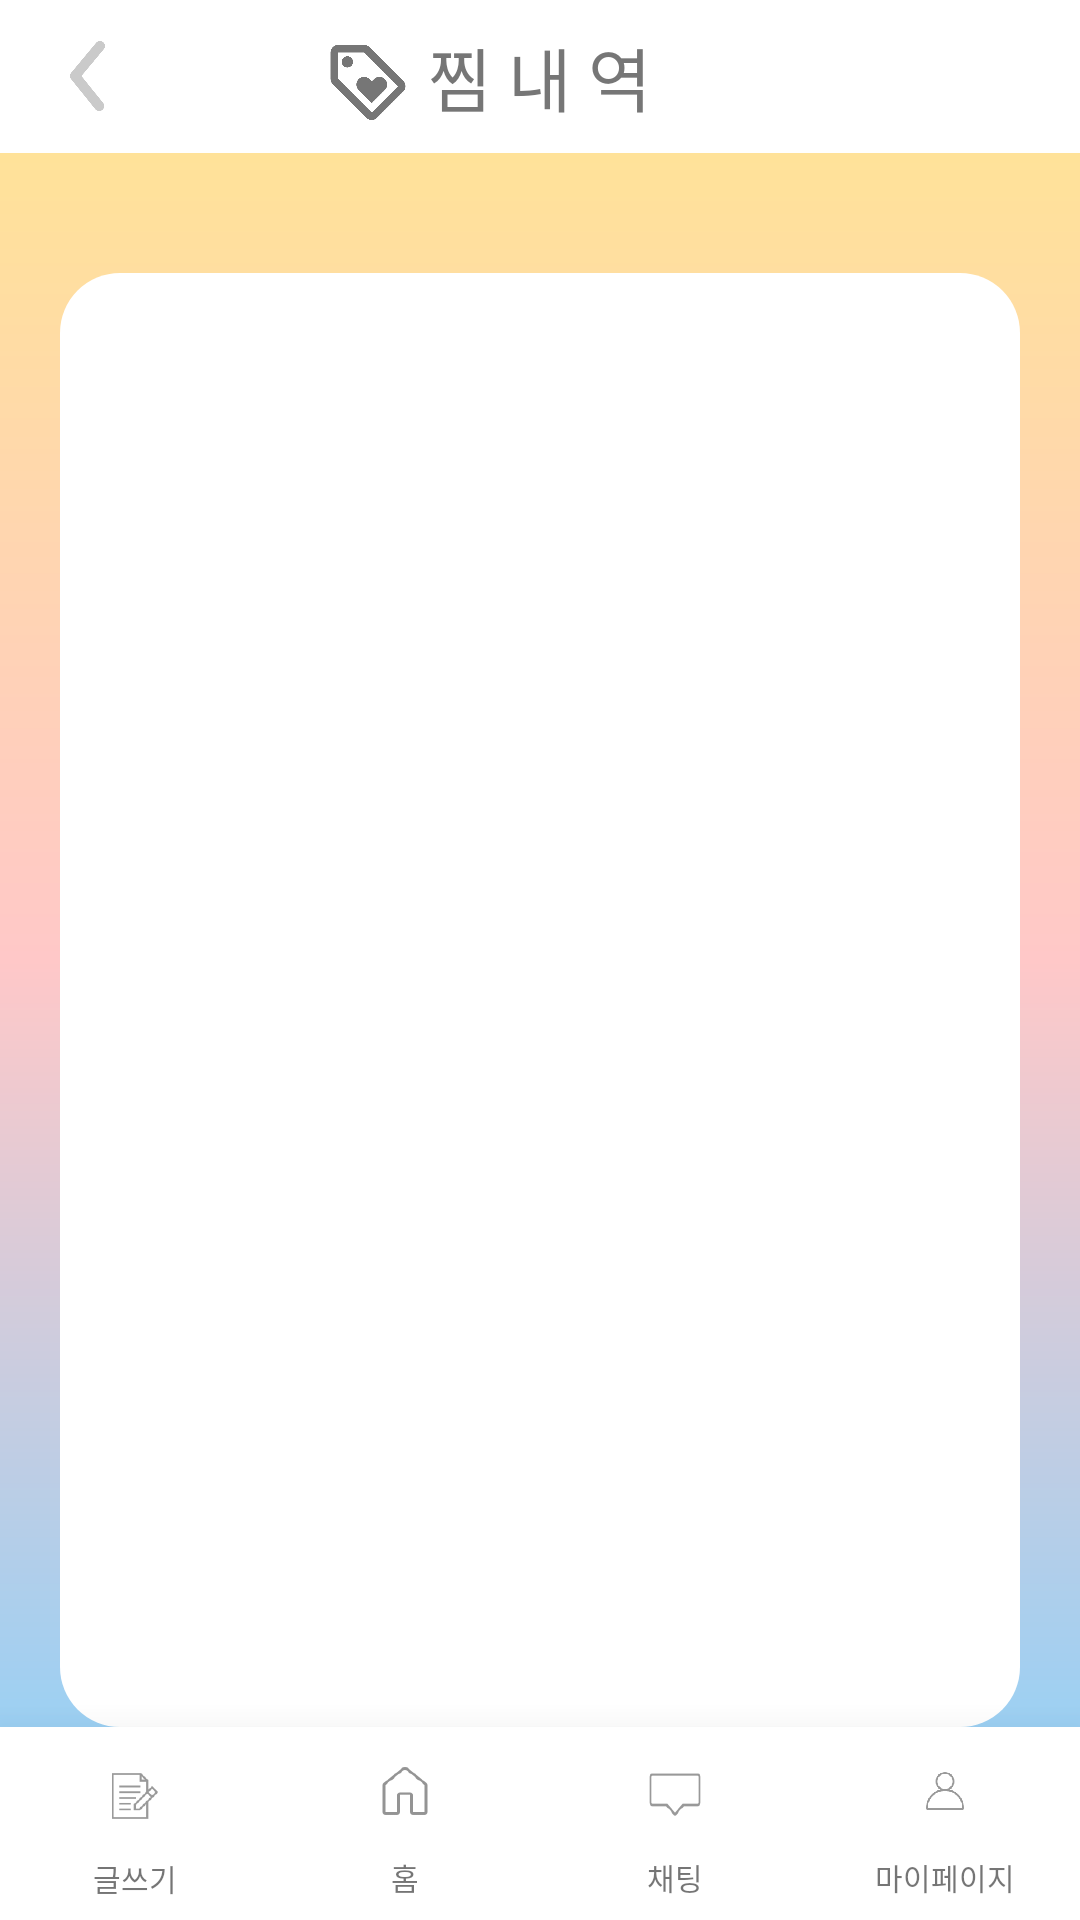

Icon bounding boxes for this 1080 × 1920 phone screenshot, format (x1, y1, x2, y2):
chat: (649, 1773, 701, 1816)
contract: (112, 1773, 158, 1819)
house: (382, 1767, 428, 1815)
mypage: (926, 1772, 964, 1810)
wish list: (330, 45, 406, 120)
